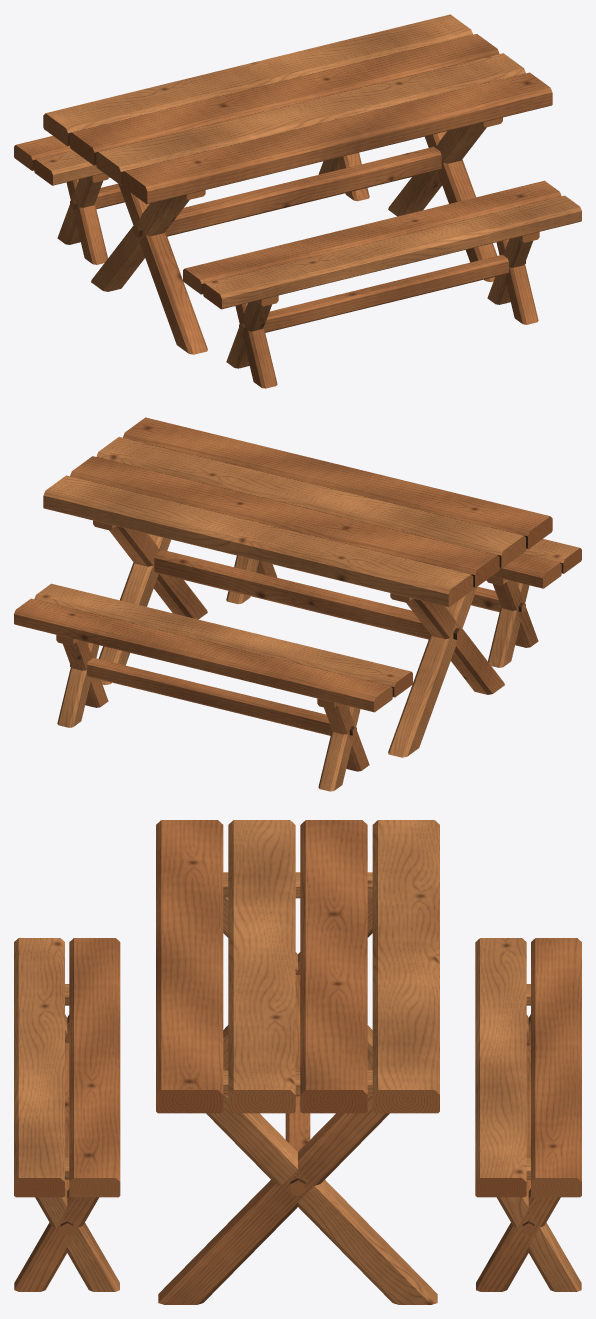
File: FMS_Deco_Table_Set.fbx
3 renders of one model, top to bottom at view 1: azimuth 30°, elevation 25°; view 2: azimuth 150°, elevation 25°; view 3: azimuth 270°, elevation 25°, orthographic. The views are drawn at different scales.
Parts seen in each view (by area): view 1: item_decor_table_set; view 2: item_decor_table_set; view 3: item_decor_table_set.
Boxes of the visible parts, left/top/right/bottom form: item_decor_table_set: left=14, top=14, right=581, bottom=388; item_decor_table_set: left=14, top=417, right=581, bottom=791; item_decor_table_set: left=14, top=820, right=581, bottom=1304.
Bounding box in the file's own units: 1.8 × 0.76 × 1.6.
